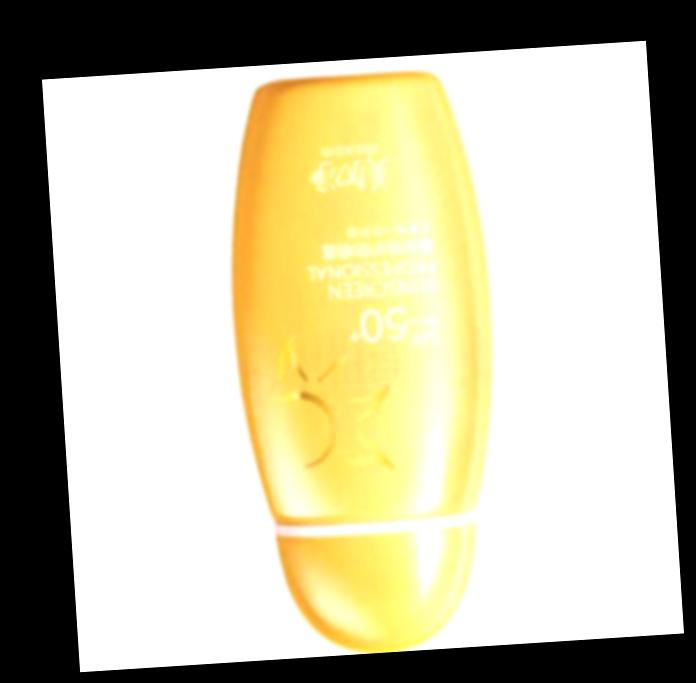cosmetic: (219, 64, 515, 659)
